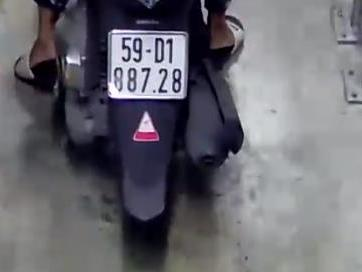num_plate: (106, 27, 190, 100)
